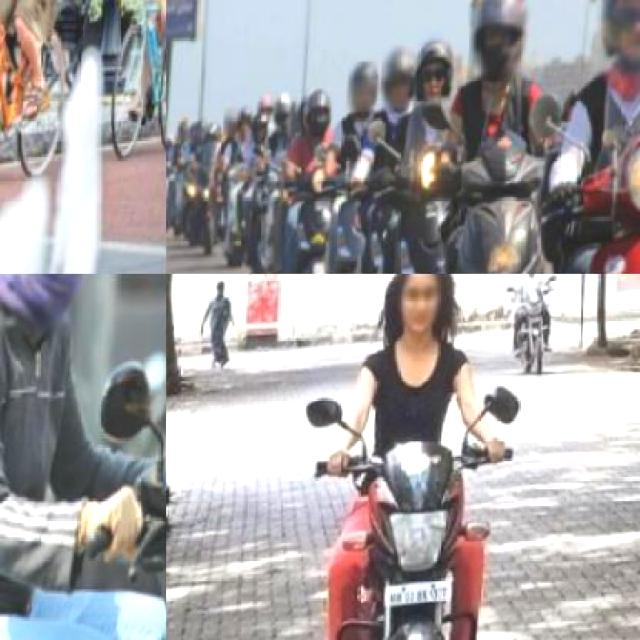With Helmet: (468, 0, 537, 85), (411, 34, 464, 112), (592, 0, 638, 85), (381, 48, 417, 114), (348, 62, 382, 116), (306, 89, 337, 138), (254, 109, 274, 146), (238, 105, 258, 138), (225, 108, 242, 140)
Without Helmet: (0, 274, 114, 343), (392, 274, 454, 331)
